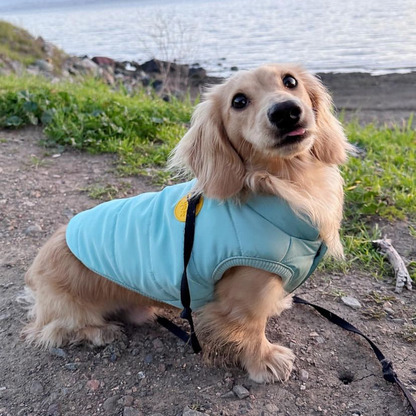dachshund: (19, 61, 390, 375)
